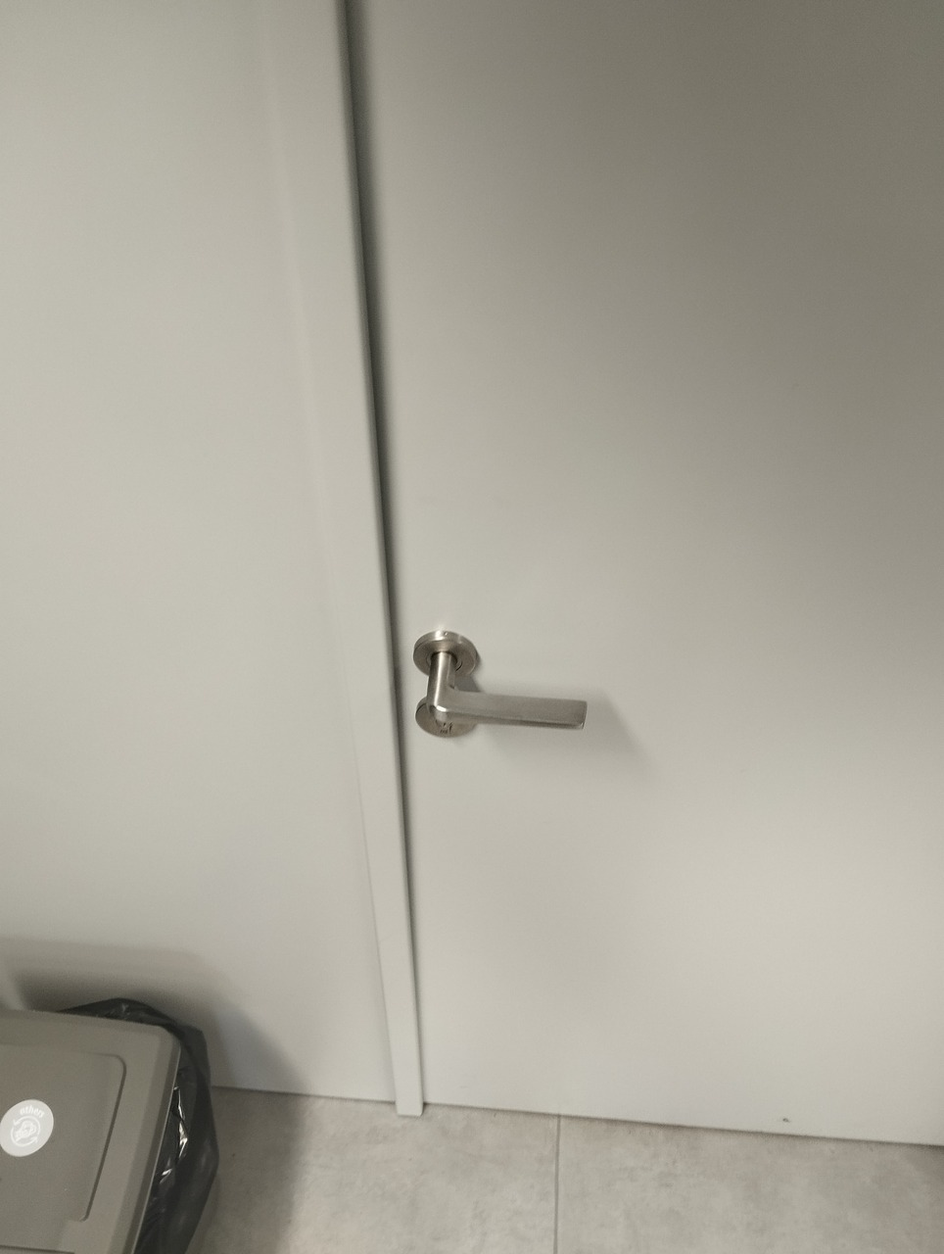Door-handle: (3, 938, 462, 1254), (411, 627, 588, 740)
